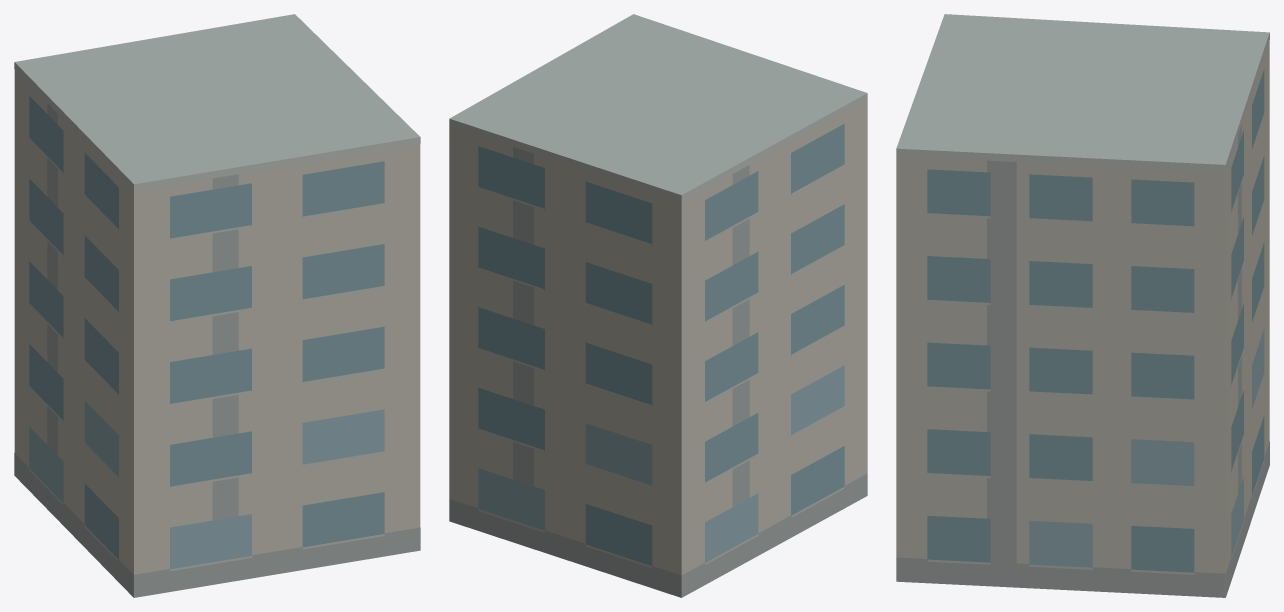
File: survey-upis-32636150.glb
3 views of the same model, side by side, from view 1: azimuth 30°, elevation 25°; view 2: azimuth 150°, elevation 25°; view 3: azimuth 270°, elevation 25° (orthographic). The views are drawn at different scales.
Visible parts, largest first — view 1: survey-upis-32636150.tmp; view 2: survey-upis-32636150.tmp; view 3: survey-upis-32636150.tmp.
Part boxes in pixels (bbox=[...]): survey-upis-32636150.tmp: bbox=[14, 14, 420, 597]; survey-upis-32636150.tmp: bbox=[449, 14, 867, 597]; survey-upis-32636150.tmp: bbox=[896, 14, 1269, 597].
Size of the model in its own units: 10.47 by 14 by 10.95.
